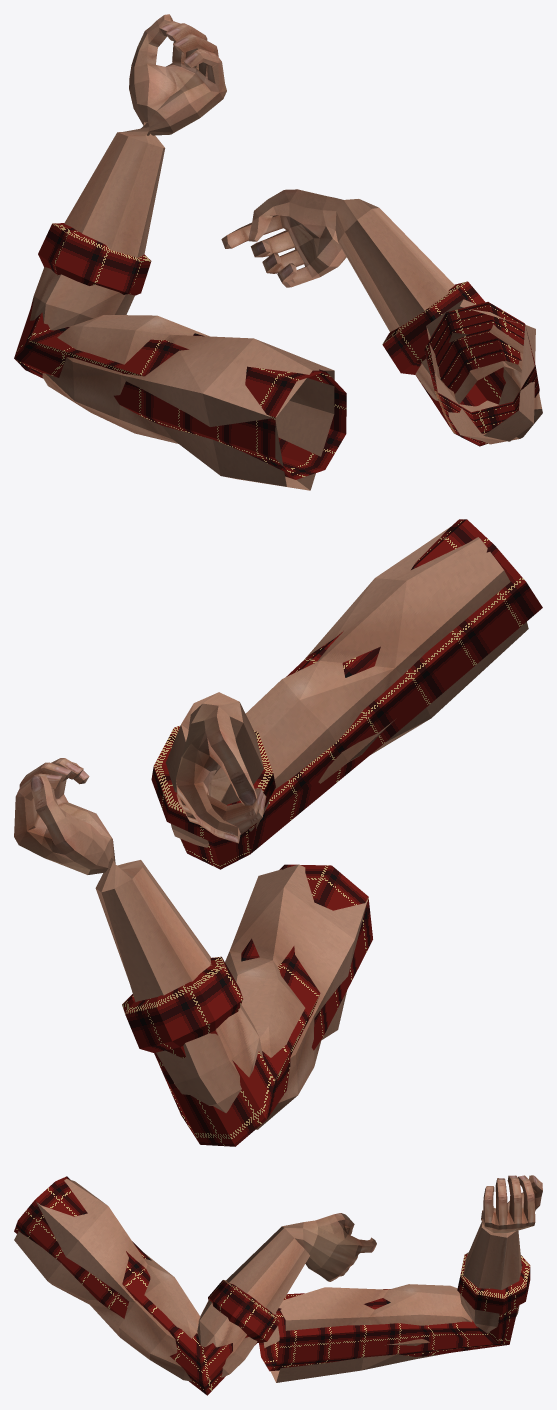
File: rifleArms.glb
The picture shows the model from 3 angles, top to bottom: view 1: azimuth 30°, elevation 25°; view 2: azimuth 150°, elevation 25°; view 3: azimuth 270°, elevation 25°; orthographic projection. The views are drawn at different scales.
Parts seen in each view (by area): view 1: Arm_L_Rifle, Arm_R_Rifle; view 2: Arm_L_Rifle, Arm_R_Rifle; view 3: Arm_R_Rifle, Arm_L_Rifle.
Part boxes in pixels (x1,y1,x2,y2): Arm_L_Rifle: [14, 14, 346, 490]; Arm_R_Rifle: [221, 189, 542, 446]; Arm_L_Rifle: [14, 758, 372, 1146]; Arm_R_Rifle: [151, 519, 542, 869]; Arm_R_Rifle: [14, 1176, 376, 1395]; Arm_L_Rifle: [259, 1175, 542, 1382].
Size of the model in its own units: 0.3605 by 0.3749 by 0.8005.
2 materials, 2 textured.
